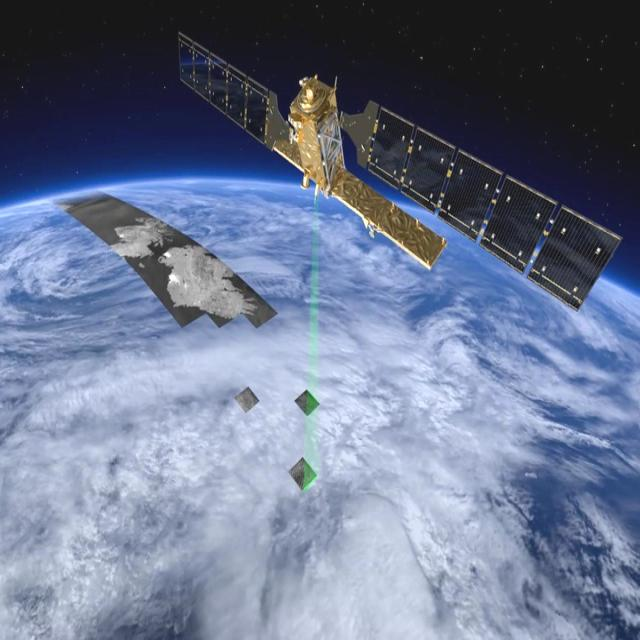satellite: (166, 30, 625, 346)
